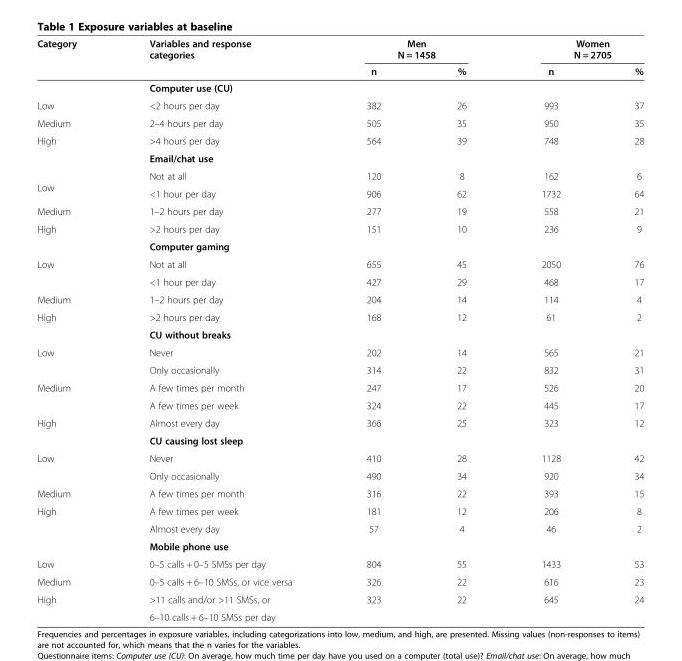table: (36, 37, 643, 622)
table column: (112, 37, 328, 622), (503, 37, 596, 622), (328, 37, 418, 622), (418, 37, 503, 622), (36, 37, 112, 622), (596, 37, 643, 622)
table column header: (36, 37, 643, 79)
table row: (36, 37, 643, 62), (36, 96, 643, 114), (36, 131, 643, 149), (36, 166, 643, 184), (36, 184, 643, 202), (36, 219, 643, 237), (36, 237, 643, 255), (36, 272, 643, 290), (36, 290, 643, 308), (36, 325, 643, 343), (36, 360, 643, 378), (36, 378, 643, 396), (36, 413, 643, 431), (36, 431, 643, 449), (36, 466, 643, 484), (36, 484, 643, 502), (36, 519, 643, 537), (36, 554, 643, 572), (36, 572, 643, 590), (36, 62, 643, 79), (36, 79, 643, 96), (36, 114, 643, 131), (36, 149, 643, 166), (36, 202, 643, 219), (36, 255, 643, 272), (36, 308, 643, 325), (36, 343, 643, 360), (36, 396, 643, 413), (36, 449, 643, 466), (36, 502, 643, 519), (36, 537, 643, 554), (36, 590, 643, 607), (36, 607, 643, 622)
table spanning cell: (112, 37, 328, 79), (112, 431, 596, 449), (328, 37, 503, 62), (36, 502, 112, 554), (503, 37, 643, 62), (36, 37, 112, 79), (36, 166, 112, 202), (36, 219, 112, 255), (36, 413, 112, 449), (36, 131, 112, 166), (36, 255, 112, 290), (36, 308, 112, 343), (36, 343, 112, 378), (36, 378, 112, 413), (36, 449, 112, 484), (36, 590, 112, 622)
